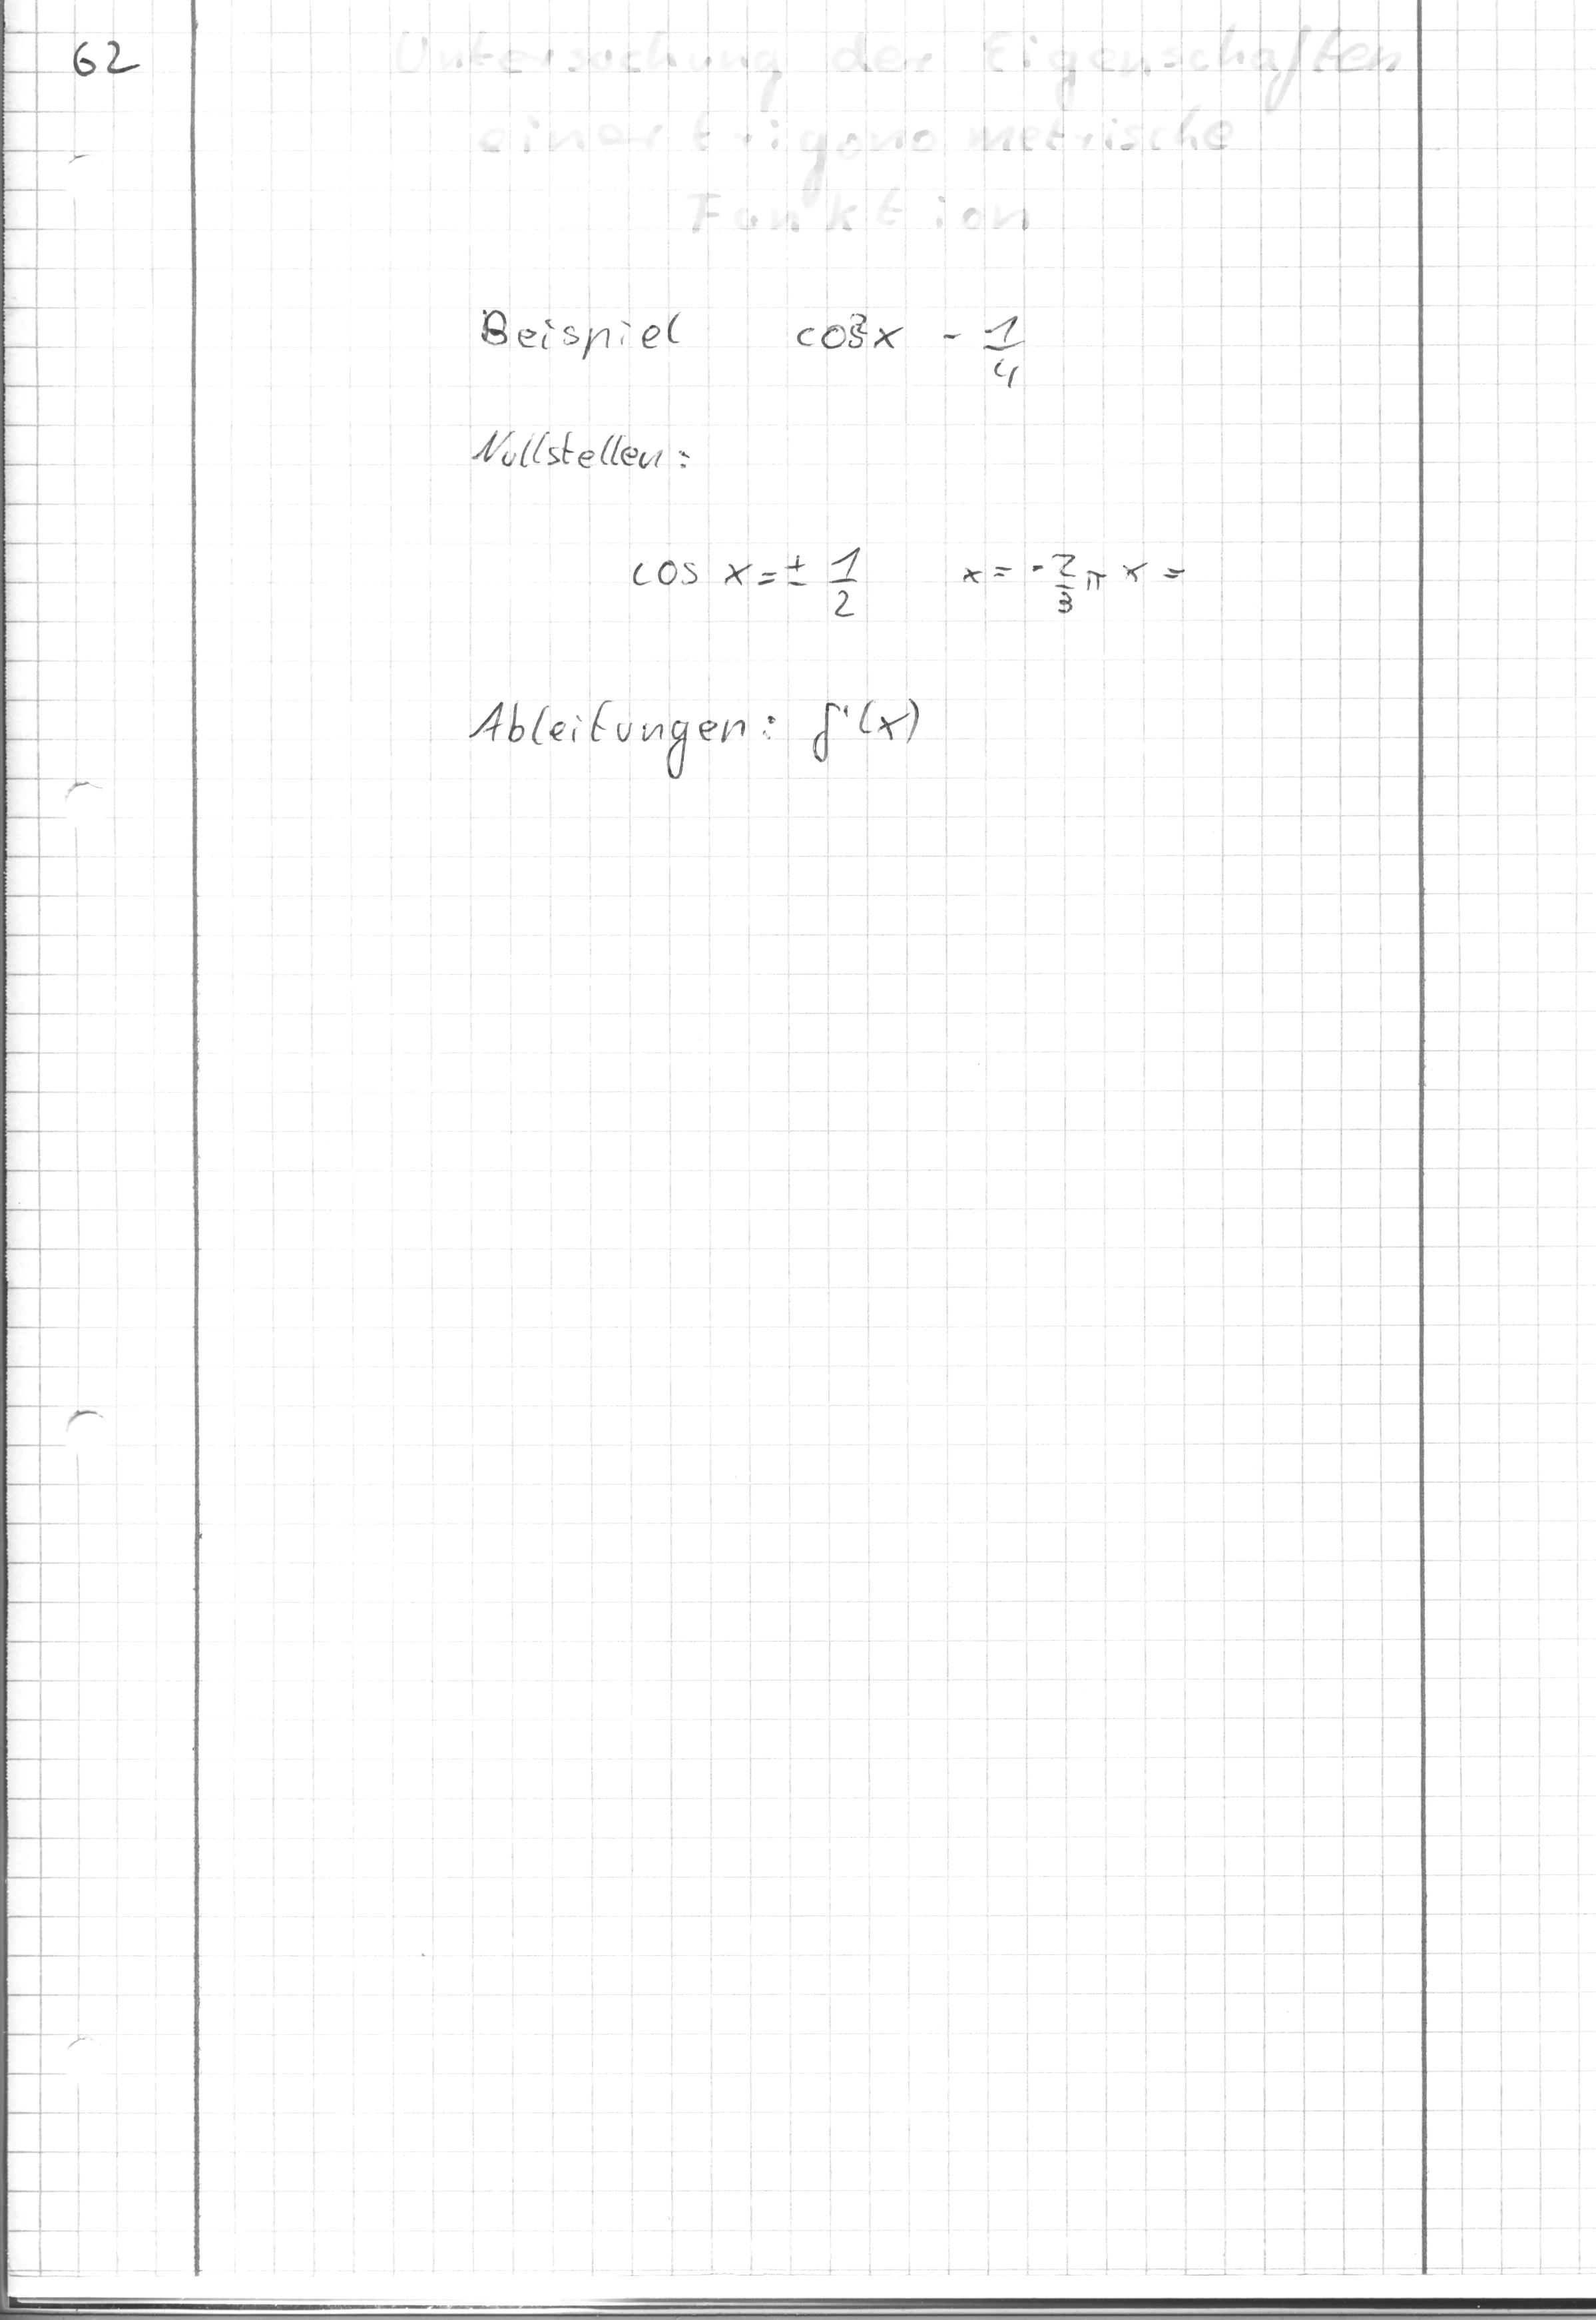word: (433, 272, 1041, 495), (607, 504, 1218, 657), (433, 646, 949, 817)
